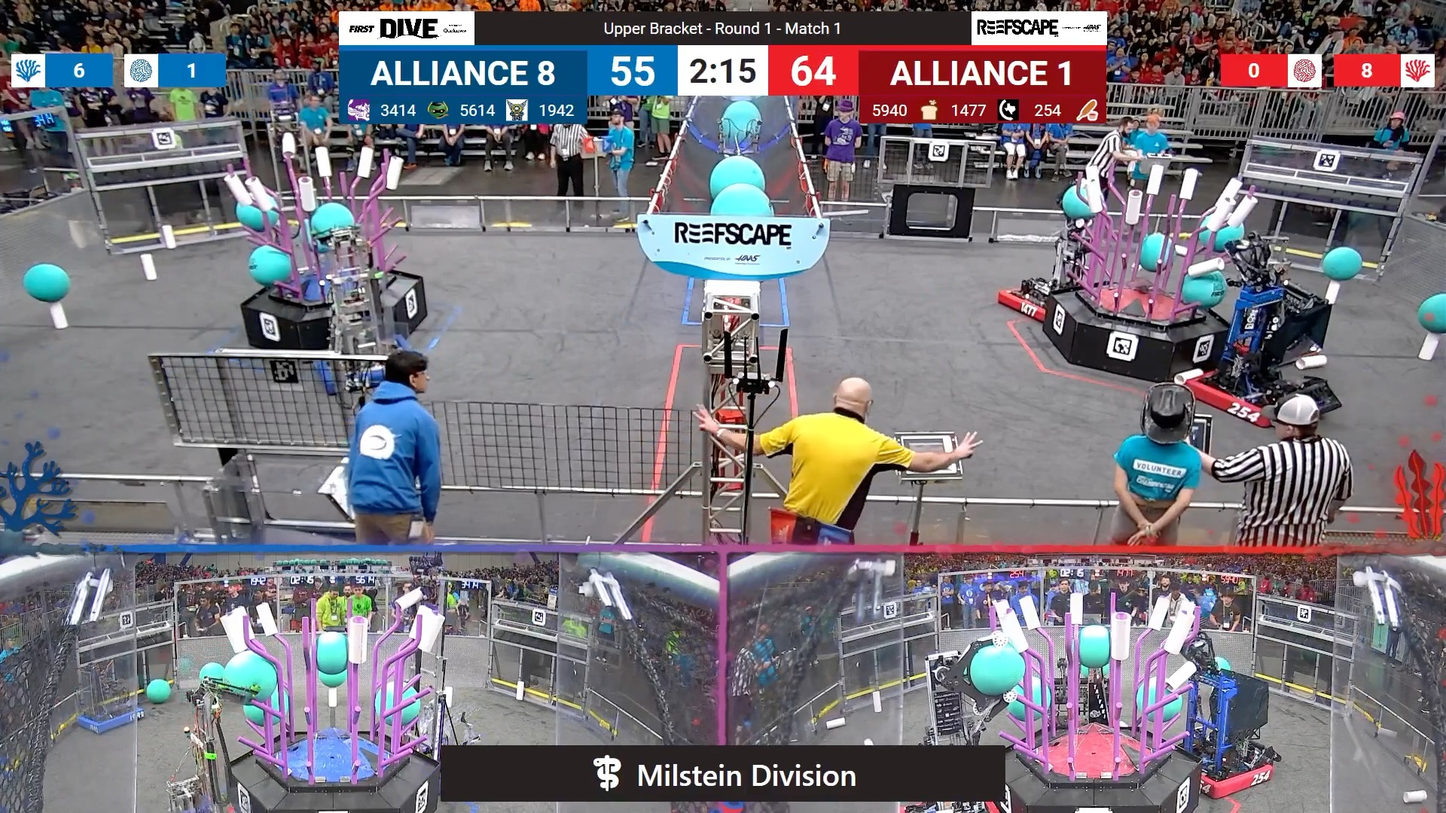bumpers: (1183, 368, 1344, 429), (320, 341, 428, 395), (1183, 742, 1280, 798), (994, 273, 1054, 320), (68, 701, 152, 734)
